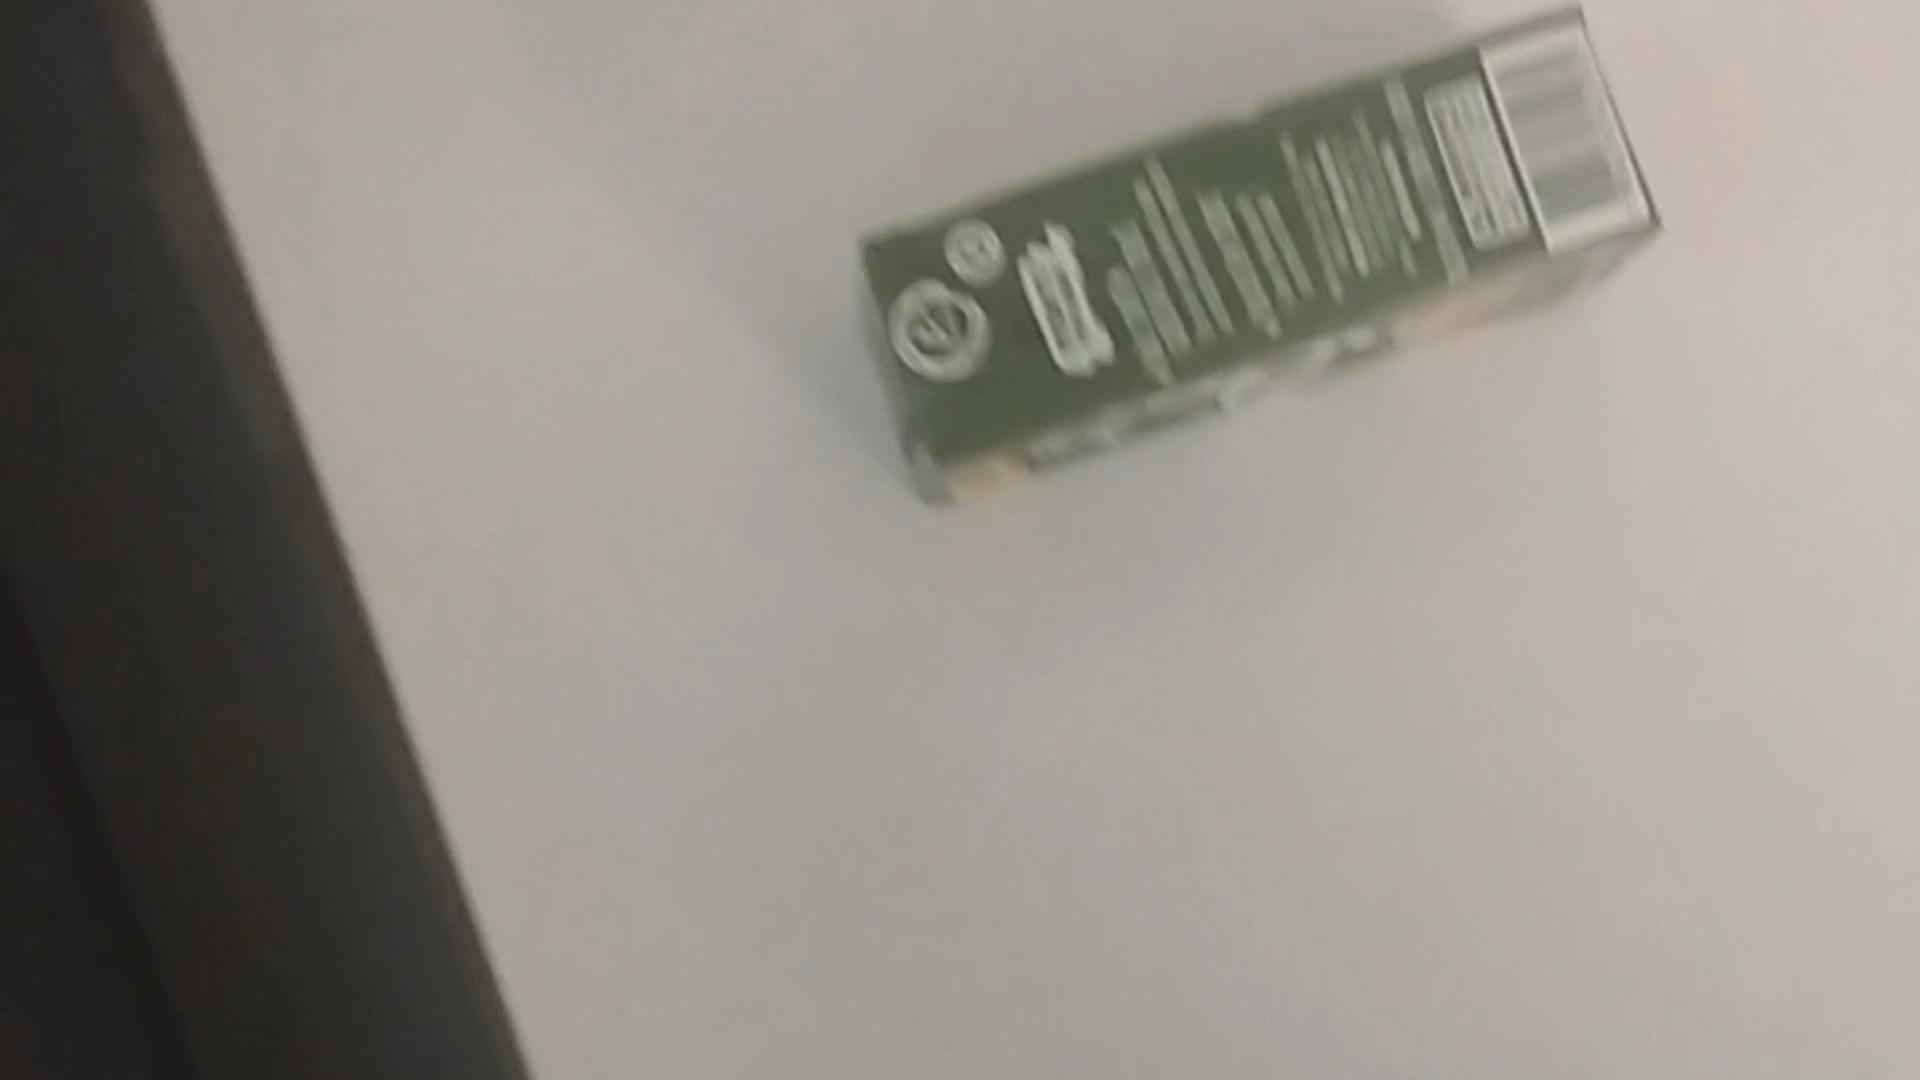coco: (857, 12, 1655, 513)
